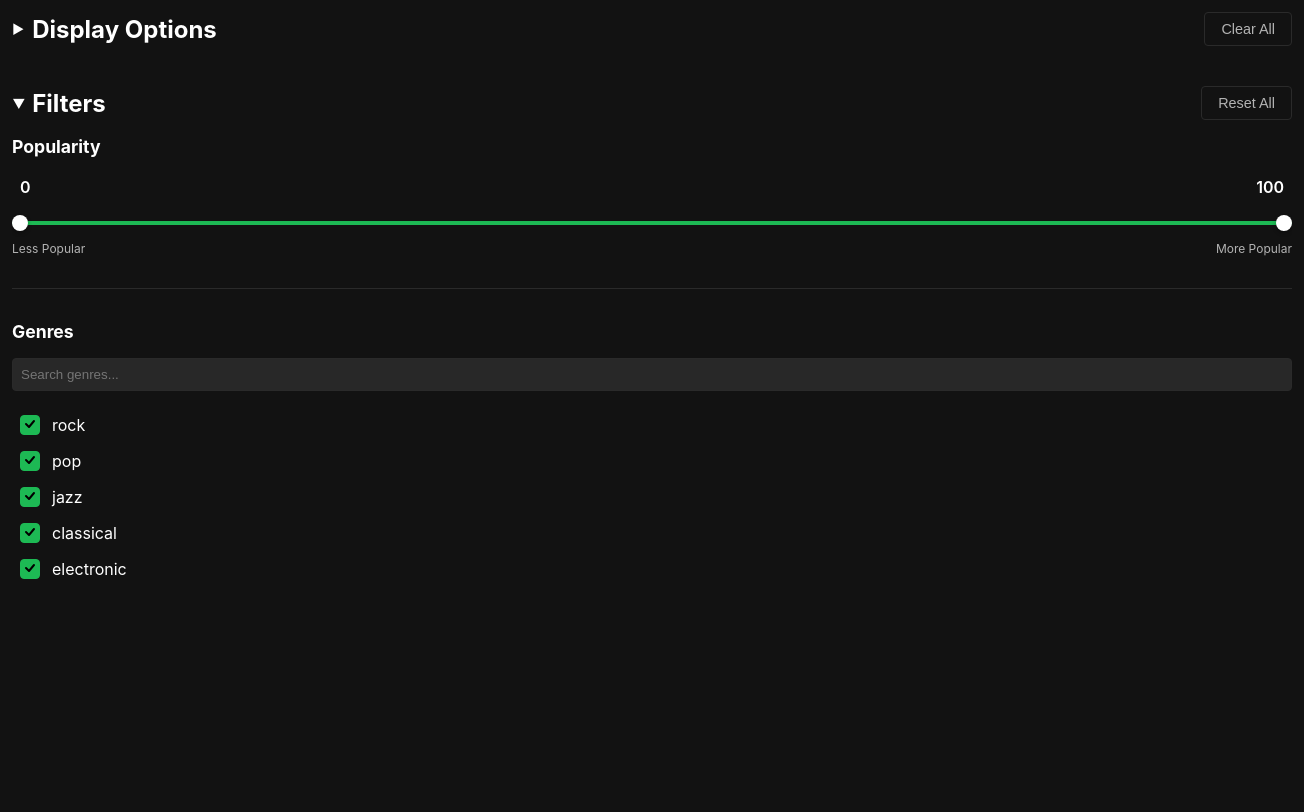
Test case: FilterPanel › Filters Section › shows genre summary with "+X more" when collapsed with many genres selected
Collapse the section
Click the heading "▶ Filters".
click(59, 103)  # box [12,88,106,118]
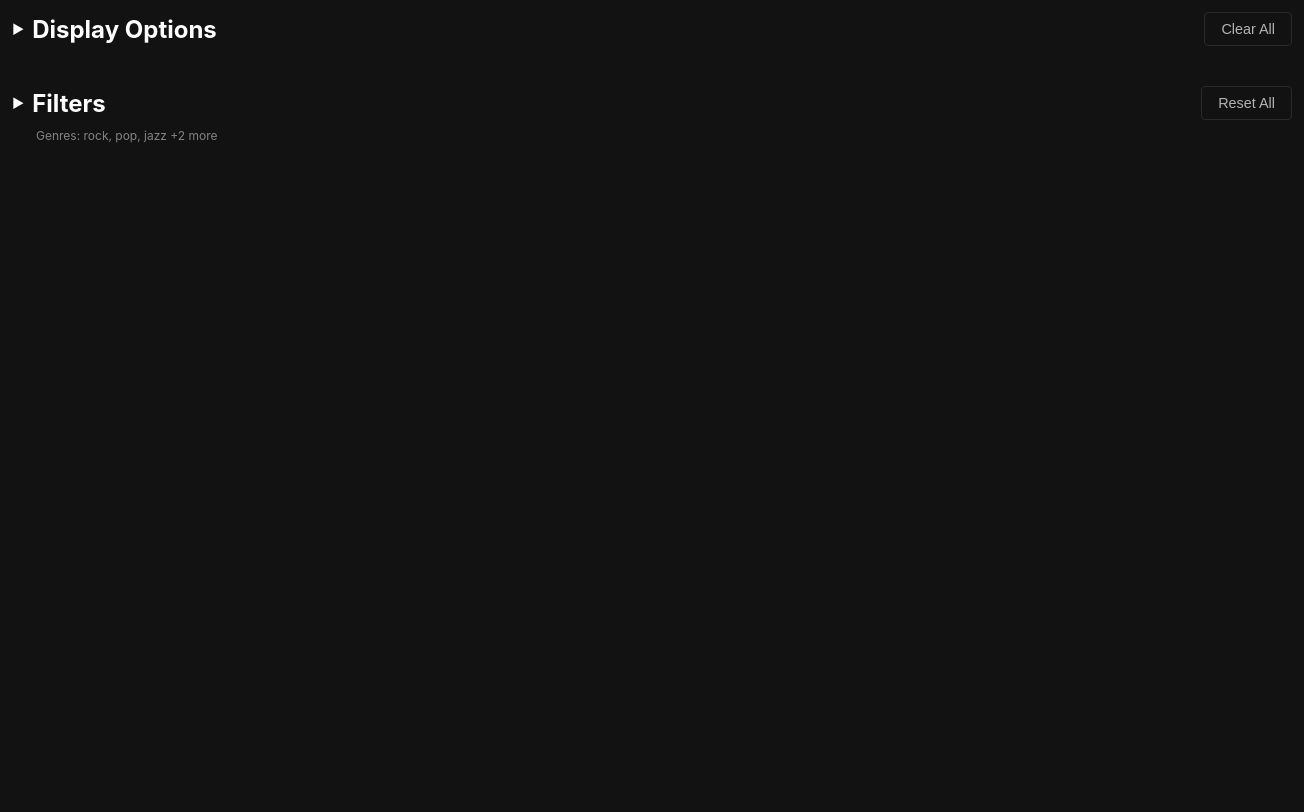
Expected: the text "Genres: rock, pop, jazz +2 more" is shown, [36,128,218,143]
